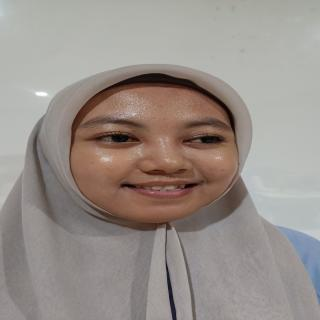Senang: (64, 78, 253, 226)
